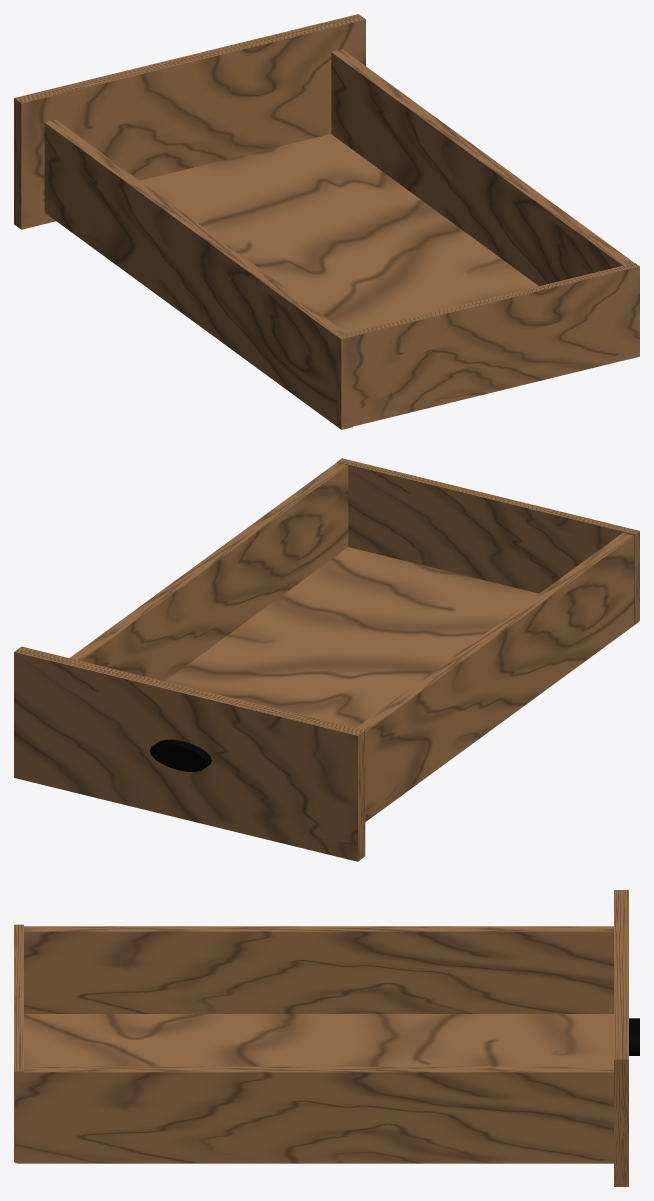
File: cajonD.obj
3 views of the same model, one above another, from view 1: azimuth 30°, elevation 25°; view 2: azimuth 150°, elevation 25°; view 3: azimuth 270°, elevation 25° (orthographic).
Visible parts, largest first — view 1: polySurface26; view 2: polySurface26; view 3: polySurface26.
Boxes of the visible parts, box(x1,y1,x2,y2) form: polySurface26: box(14, 14, 639, 429); polySurface26: box(14, 458, 639, 861); polySurface26: box(14, 890, 639, 1186).
Size of the model in its own units: 0.6 by 0.21 by 0.9363.
2 materials, 2 textured.
